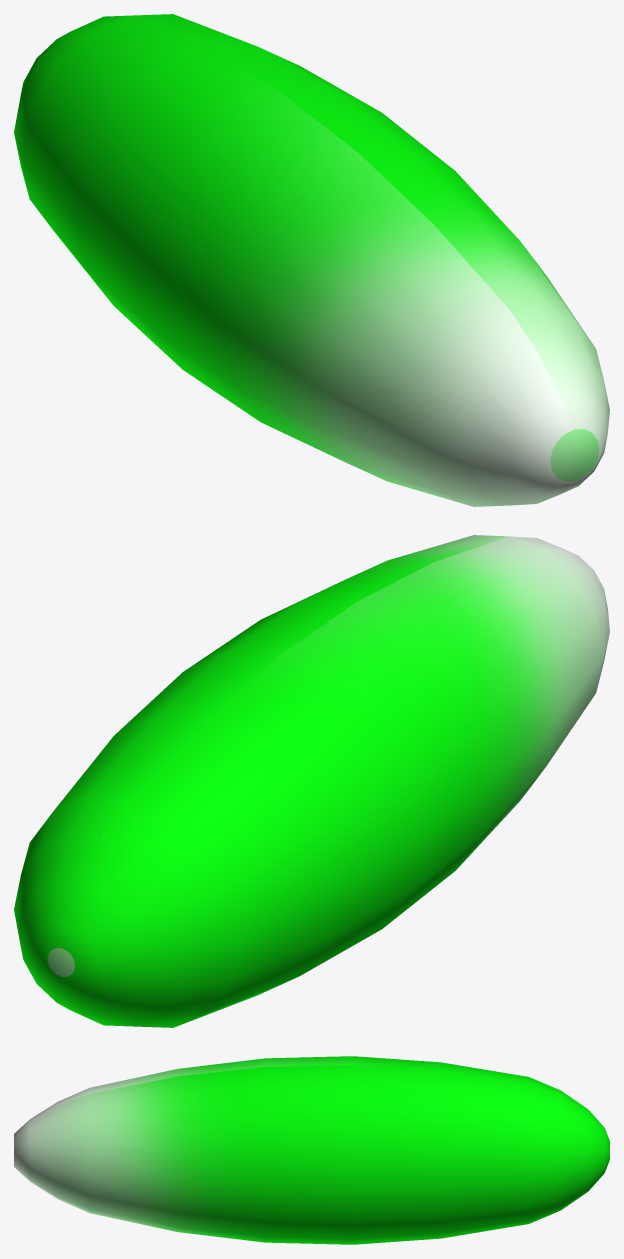
The model's file is EnergyBeam.fbx.
3 renders of one model, top to bottom at view 1: azimuth 30°, elevation 25°; view 2: azimuth 150°, elevation 25°; view 3: azimuth 270°, elevation 25°, orthographic. The views are drawn at different scales.
Visible parts, largest first — view 1: Cylinder001; view 2: Cylinder001; view 3: Cylinder001.
Part boxes in pixels (x1=…): Cylinder001: x1=14, y1=14, x2=609, y2=506; Cylinder001: x1=14, y1=535, x2=609, y2=1027; Cylinder001: x1=14, y1=1056, x2=609, y2=1244.
Size of the model in its own units: 129 by 129 by 407.
Materials: 1 (1 with a texture image).
